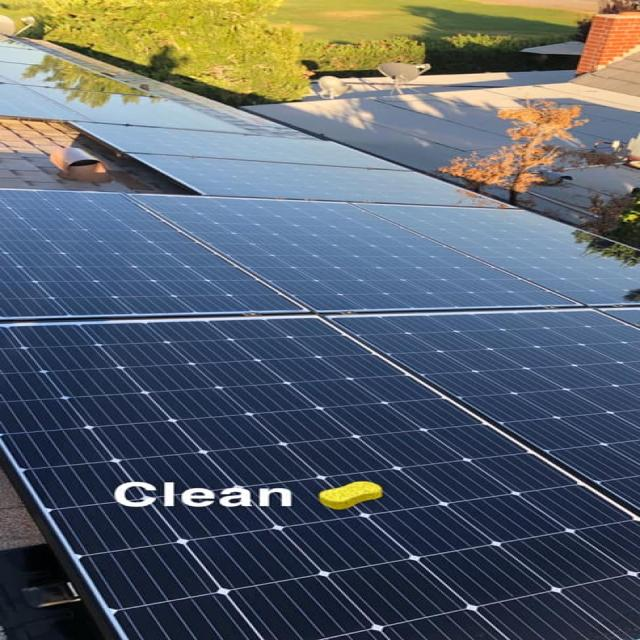clean-solar-panel: (0, 39, 639, 640)
